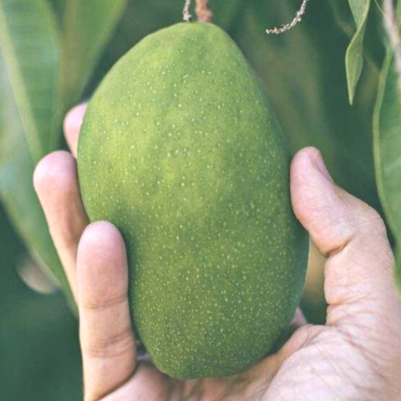mango: (2, 5, 352, 392)
